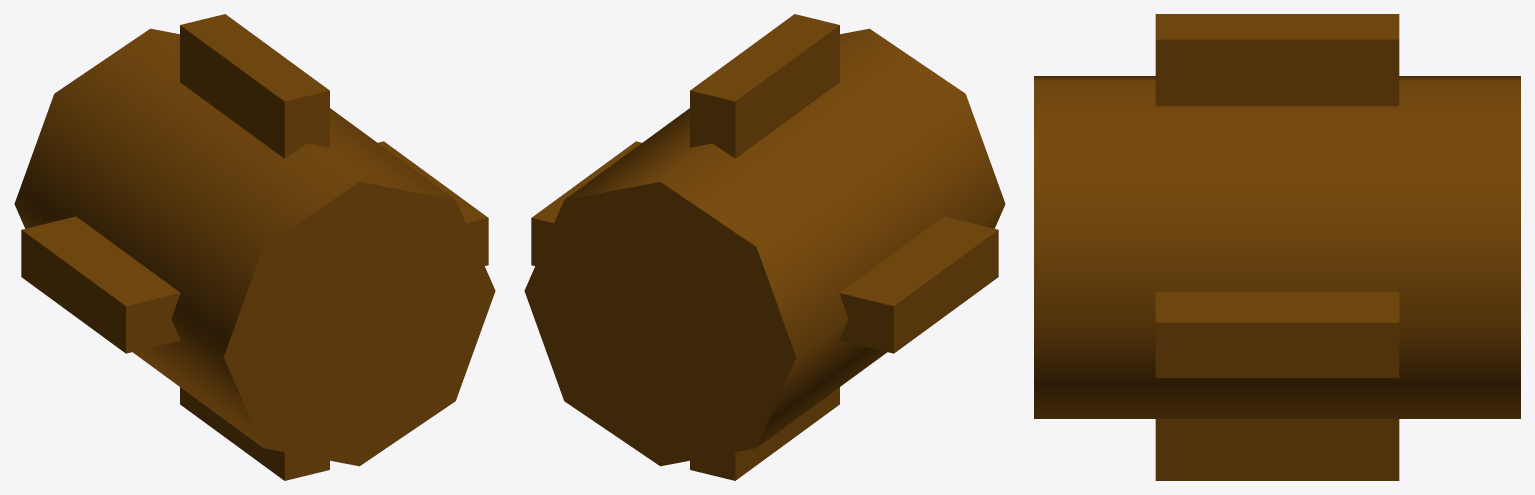
Rendered from shaft-geared.glb.
3 views of the same model, side by side, from view 1: azimuth 30°, elevation 25°; view 2: azimuth 150°, elevation 25°; view 3: azimuth 270°, elevation 25° (orthographic). The views are drawn at different scales.
Parts seen in each view (by area): view 1: 862-shaft-teeth; view 2: 862-shaft-teeth; view 3: 862-shaft-teeth.
Part boxes in pixels (x1,y1,x2,y2): 862-shaft-teeth: [14, 14, 495, 480]; 862-shaft-teeth: [524, 14, 1005, 480]; 862-shaft-teeth: [1034, 14, 1520, 480].
Size of the model in its own units: 0.4 by 0.4 by 0.4.
1 material, 1 textured.
